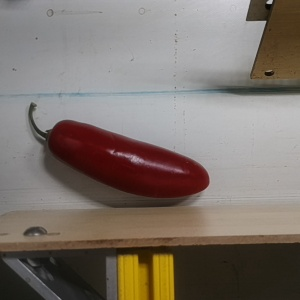Cut Point: (36, 116, 71, 156)
